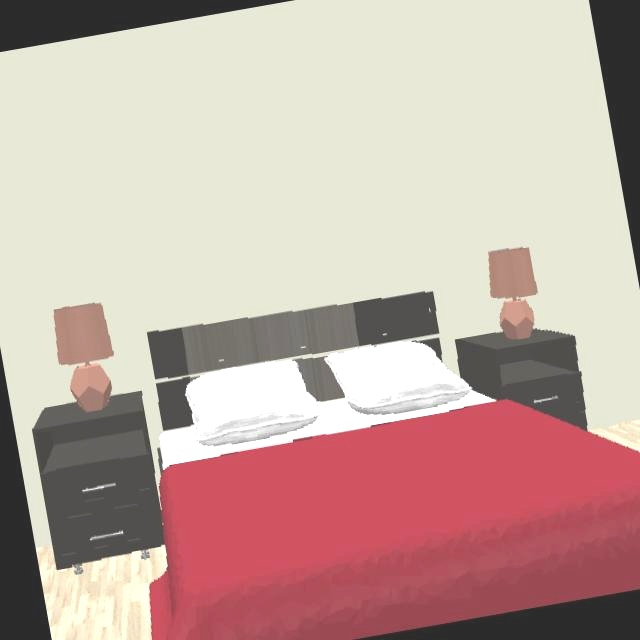bed: (147, 292, 640, 640)
cabinet: (33, 395, 163, 568), (455, 328, 589, 428)
lamp: (53, 302, 116, 411), (489, 248, 538, 340)
pillow: (185, 360, 322, 449), (324, 340, 439, 416)
